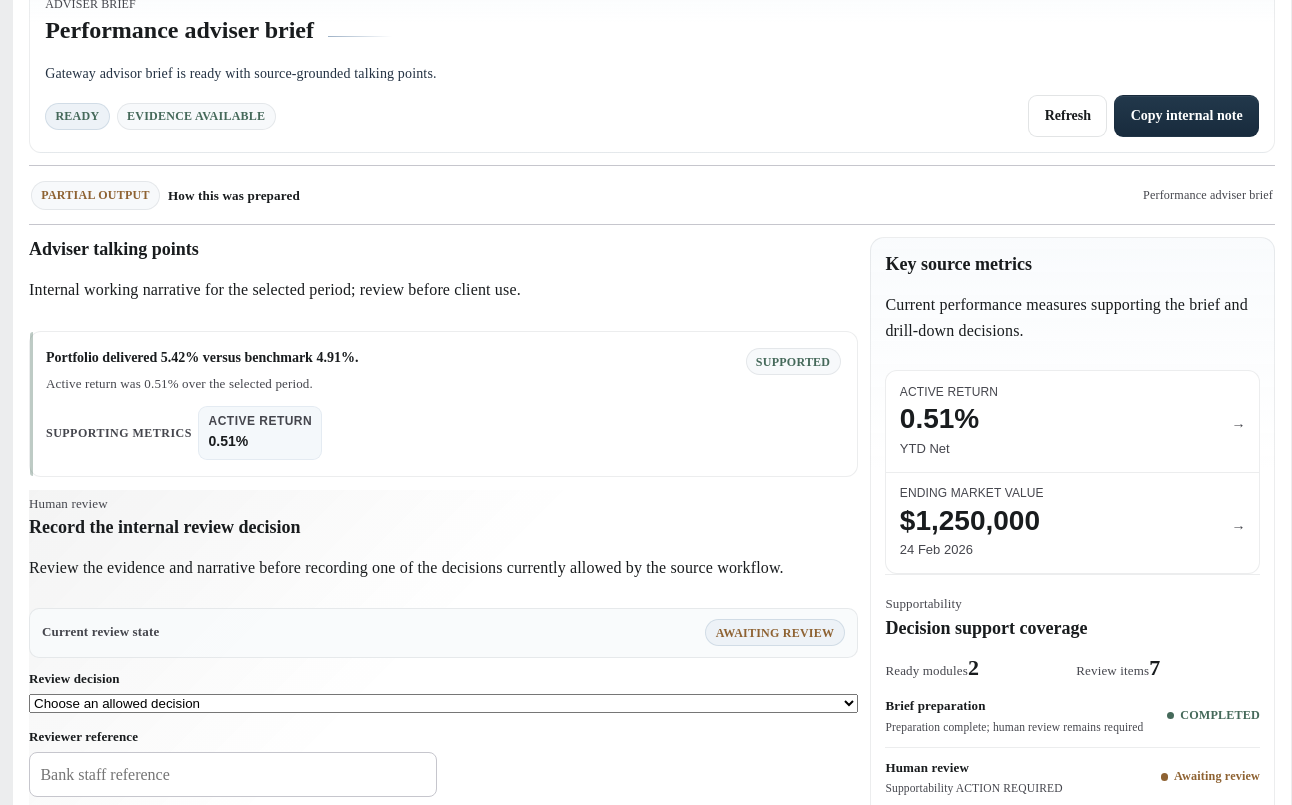
Scenario: PerformanceAdvisorBriefMode › rejects an HTTP-success response that does not prove the requested review transition
Select "Accept for internal use" in the dropdown labelled "Review decision": (443, 704) [29,694,858,713]
(page scrolled)
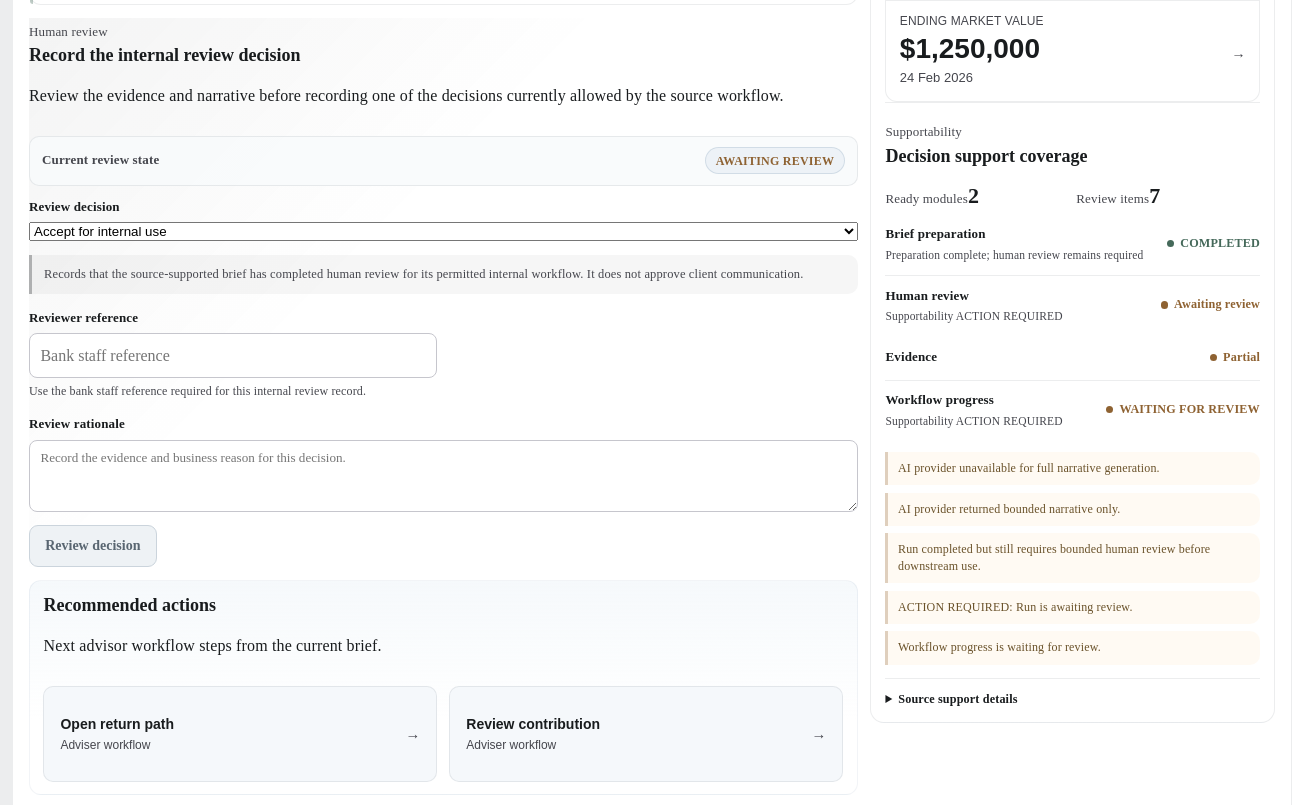
In the field labelled "Reviewer reference": (233, 356) [29,333,437,378], type "advisor_1"
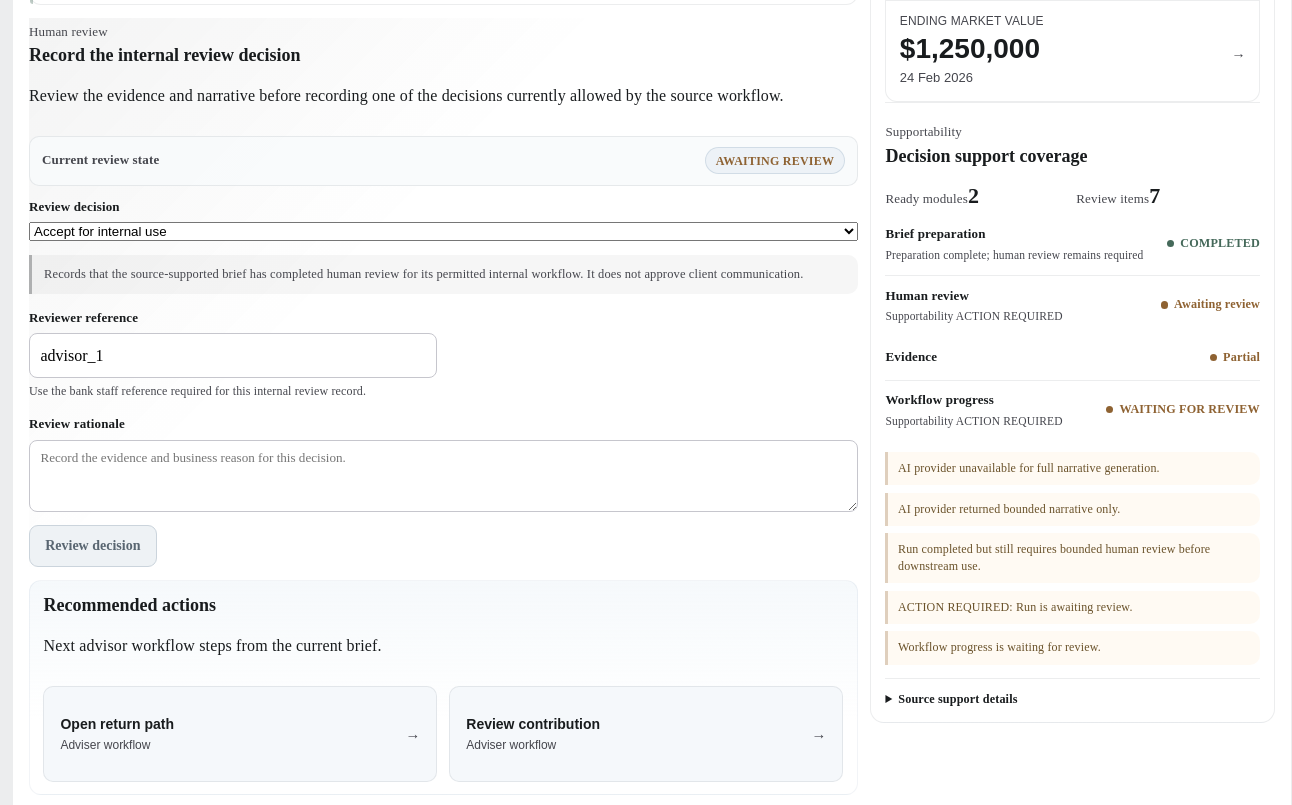
In the text box labelled "Review rationale": (443, 476) [29,440,858,512], type "Evidence supports permitted internal use."
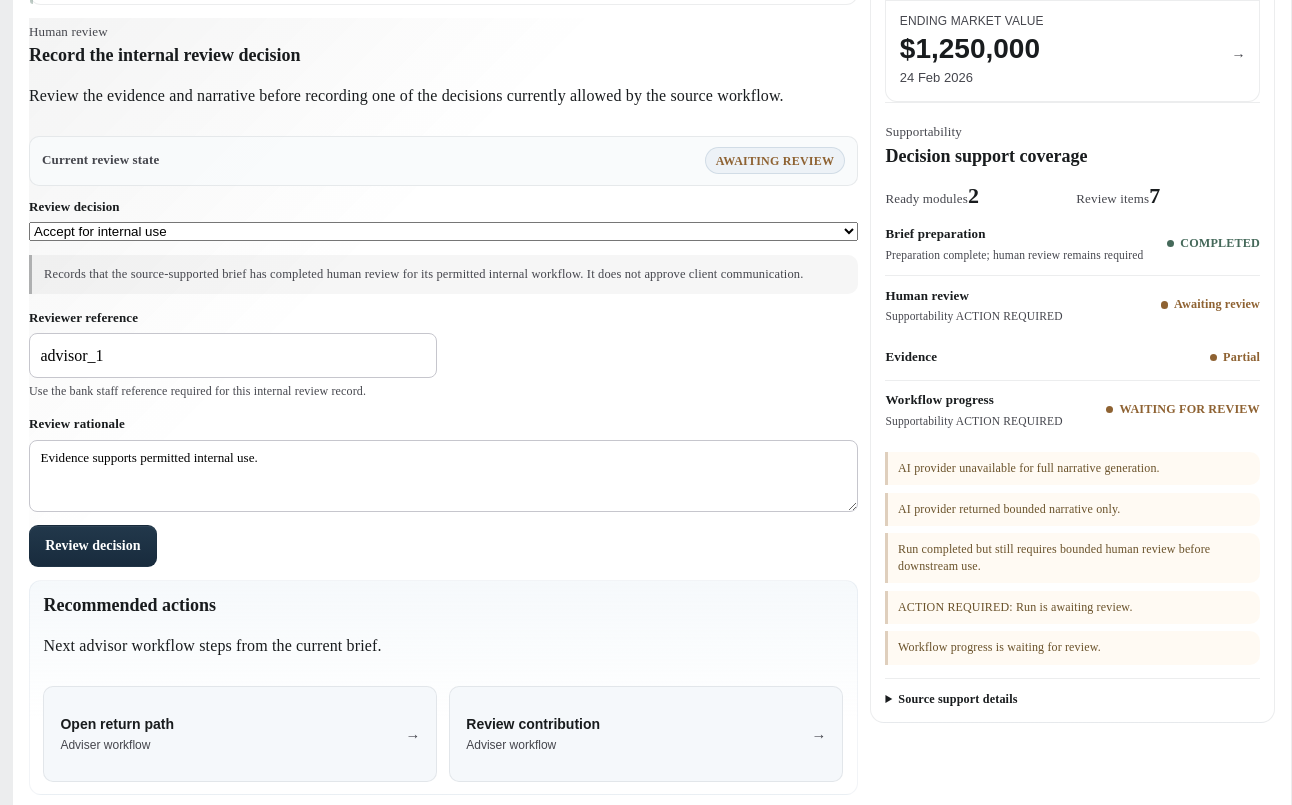
Click the button "Review decision": (93, 546) [29,525,157,567]
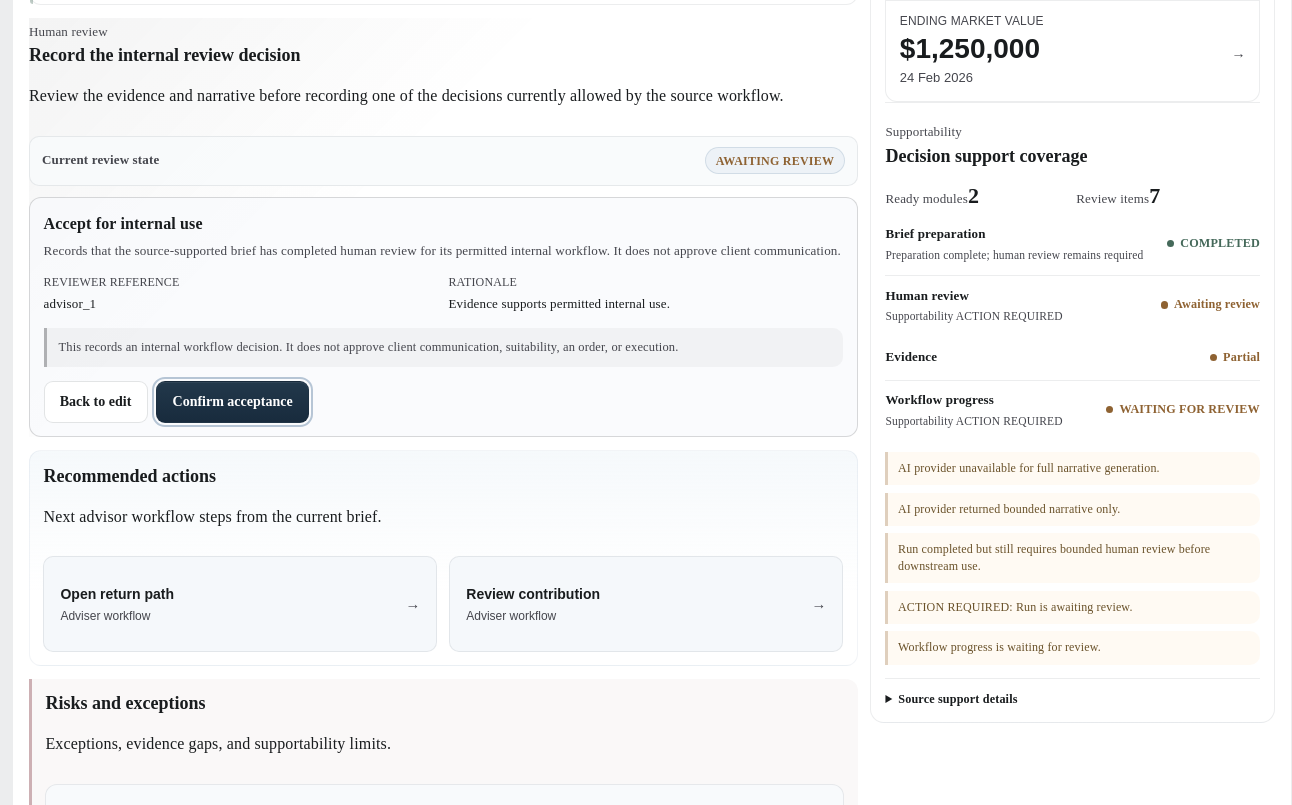
Click the button "Confirm acceptance": (233, 402) [156,381,309,423]
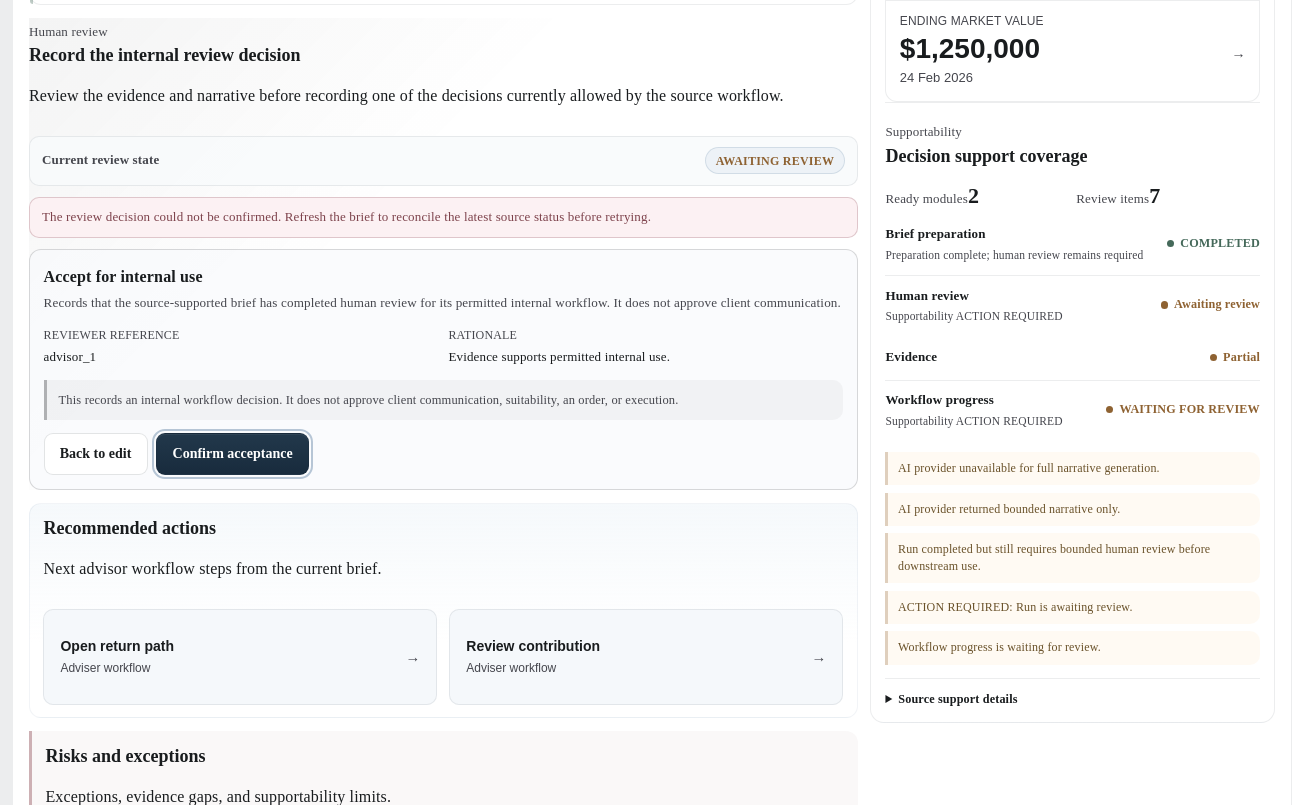
expect the text named "Status Awaiting review" is shown: met, box [705,147,845,174]
expect the message shows "The review decision could not be confirmed. Refresh the brief to reconcile the latest source status before retrying.": met, box [42,209,651,224]
